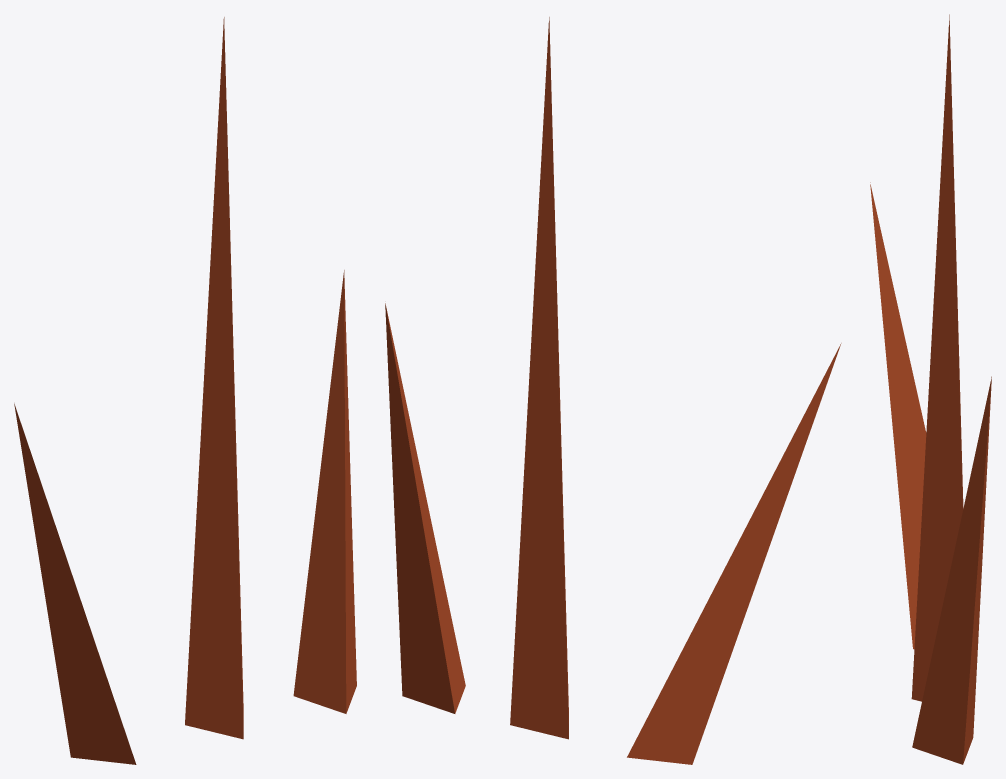
The model's file is world_4_grass_2.dae.
3 renders of one model, left to right at view 1: azimuth 30°, elevation 25°; view 2: azimuth 150°, elevation 25°; view 3: azimuth 270°, elevation 25°, orthographic. The views are drawn at different scales.
Visible parts, largest first — view 1: grass_2; view 2: grass_2; view 3: grass_2.
Boxes of the visible parts, box(x1,y1,x2,y2) form: grass_2: box(14, 17, 356, 764); grass_2: box(385, 17, 841, 764); grass_2: box(870, 14, 991, 764).
Bounding box in the file's own units: 0.2895 × 0.0806 × 0.5.
